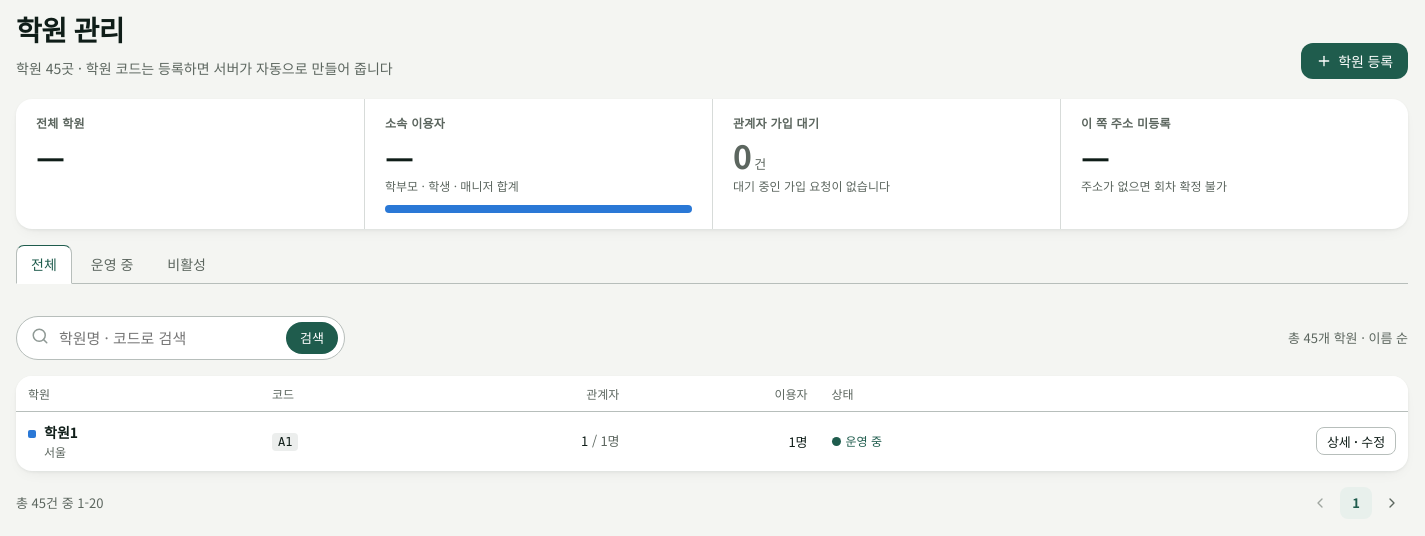
Test: 메인 관리자 목록 — 총 개수와 다음 쪽 › 학원 — 머리글은 서버의 total_count 를 쓰고 [다음] 이 다음 쪽(page=1)을 읽는다
This screenshot has width=1425, height=536.
Check: the text "총 45개 학원 · 이름 순" is shown, box left=1288, top=329, right=1408, bottom=347
Click the button named "다음". click: (1392, 503)
box: left=1376, top=487, right=1408, bottom=519
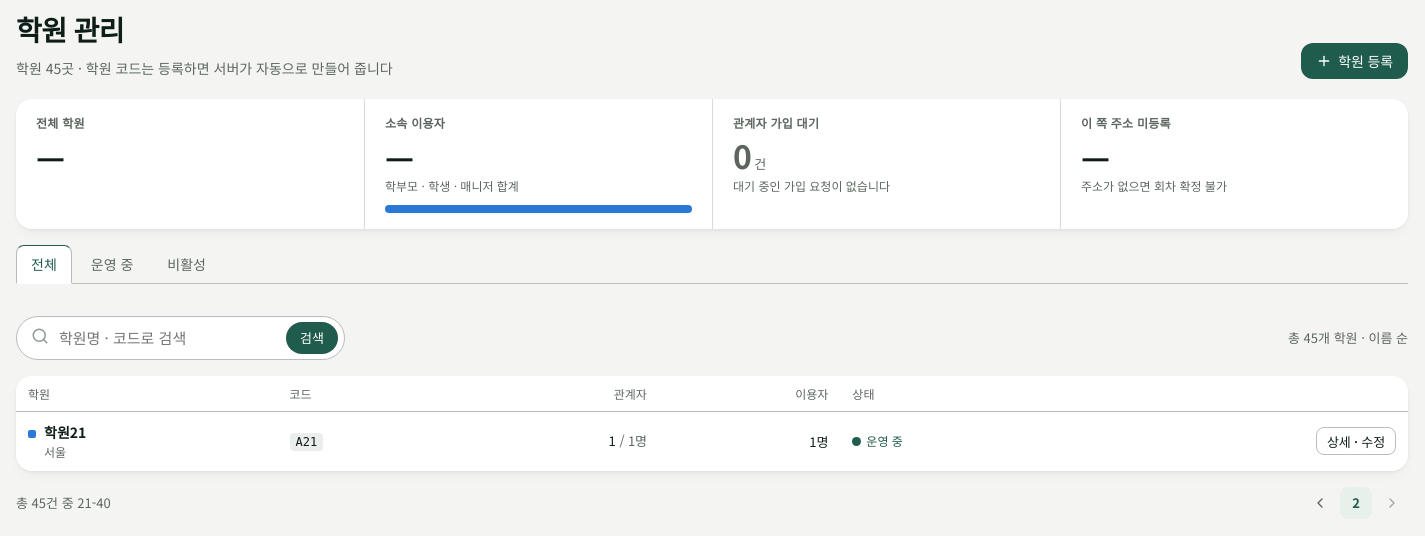
Check: the text "학원21" is shown, box left=44, top=422, right=86, bottom=442
